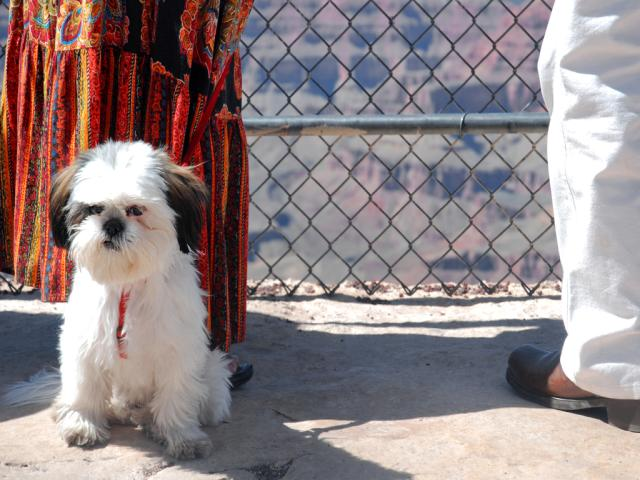Dog: (48, 135, 236, 461)
